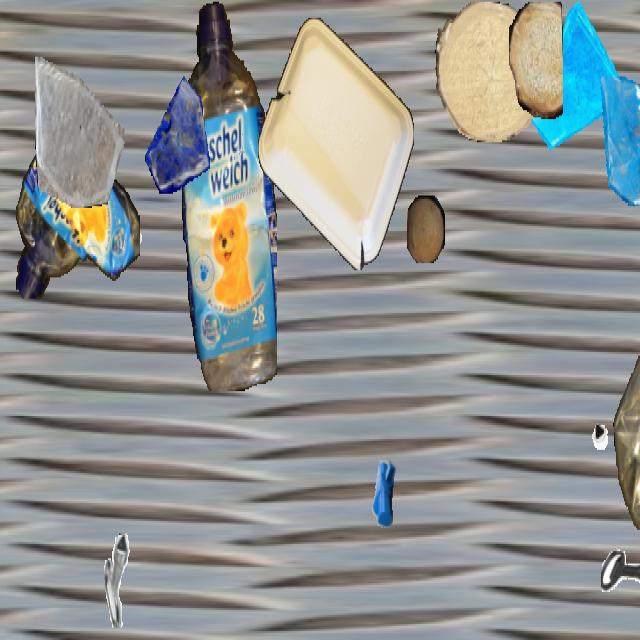glass: (532, 2, 622, 162), (35, 48, 125, 208), (144, 75, 210, 192), (594, 76, 640, 205)
metal: (205, 174, 265, 281), (555, 354, 613, 457), (354, 438, 412, 540), (104, 532, 158, 628), (601, 528, 640, 620), (106, 178, 146, 249)
plastic: (258, 18, 414, 270), (182, 2, 276, 389), (14, 137, 140, 297), (613, 242, 640, 558)
wood: (435, 2, 541, 140), (509, 2, 563, 119), (407, 196, 445, 263)
